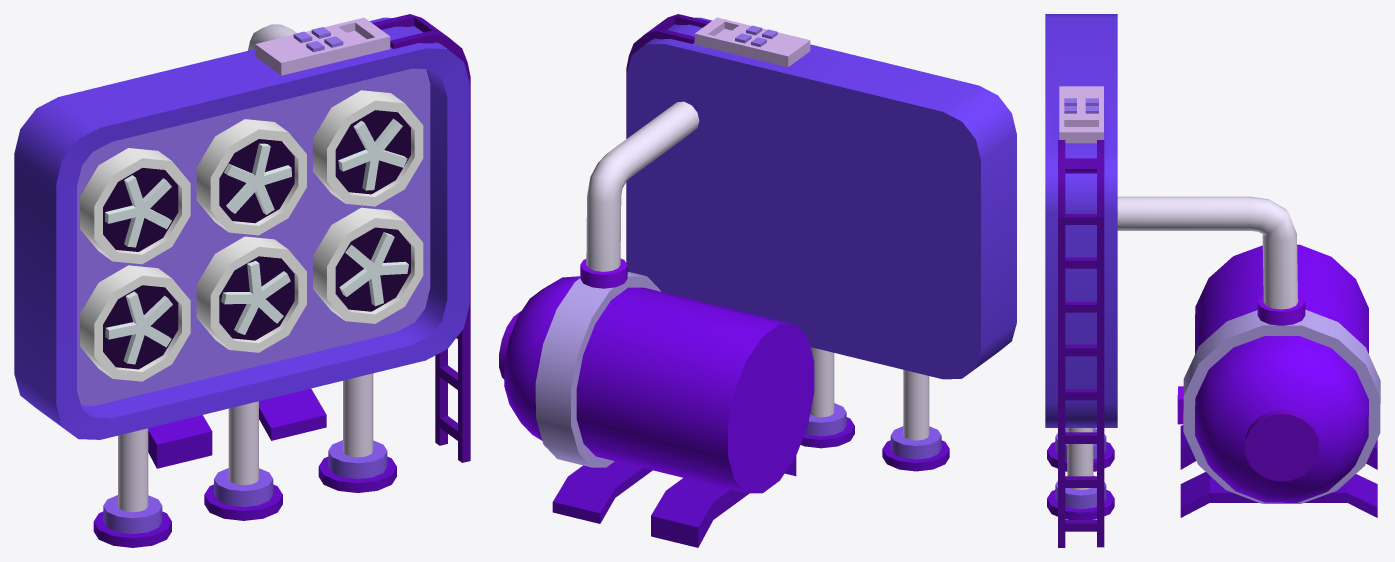
Rendered from 2026-1-9-CarbonCapture-v048.fbx.
3 views of the same model, side by side, from view 1: azimuth 30°, elevation 25°; view 2: azimuth 150°, elevation 25°; view 3: azimuth 270°, elevation 25° (orthographic). The views are drawn at different scales.
Parts seen in each view (by area): view 1: Cube.003, Cube.004, Cylinder.011, Cylinder.008, Cylinder.012, Cylinder.007, Cylinder.010, Cylinder.009, Cylinder.022, Cylinder.020, Cylinder.018, Cylinder.021 (+20 smaller); view 2: Cube.003, Cylinder, Cylinder.002, Cylinder.001, Cube.001, Cube, Cylinder.006, Cylinder.014, Cube.004, Cylinder.015, Cylinder.005, Cylinder.024 (+2 smaller); view 3: Cylinder, Cube.003, Cube.004, Cylinder.001, Cylinder.002, Cube, Cylinder.003, Cylinder.024, Cylinder.004, Cylinder.017, Cube.001, Cylinder.013.
Part boxes in pixels (x1,y1,x2,y2): Cube.003: [14, 17, 469, 439]; Cube.004: [372, 14, 470, 462]; Cylinder.011: [196, 236, 306, 352]; Cylinder.008: [196, 119, 306, 235]; Cylinder.012: [80, 265, 190, 381]; Cylinder.007: [80, 148, 190, 264]; Cylinder.010: [313, 207, 423, 323]; Cylinder.009: [313, 90, 423, 206]; Cylinder.022: [103, 285, 178, 369]; Cylinder.020: [335, 227, 410, 311]; Cylinder.018: [219, 139, 294, 223]; Cylinder.021: [219, 256, 294, 340]; Cube.003: [626, 17, 1016, 379]; Cylinder: [499, 276, 814, 493]; Cylinder.002: [535, 271, 661, 467]; Cylinder.001: [586, 101, 699, 271]; Cube.001: [651, 456, 796, 547]; Cube: [552, 461, 652, 523]; Cylinder.006: [903, 370, 929, 440]; Cylinder.014: [810, 347, 834, 417]; Cube.004: [626, 14, 710, 271]; Cylinder.015: [890, 426, 941, 459]; Cylinder.005: [882, 440, 949, 471]; Cylinder.024: [580, 258, 627, 288]; Cylinder: [1195, 244, 1368, 502]; Cube.003: [1045, 14, 1117, 427]; Cube.004: [1058, 140, 1104, 547]; Cylinder.001: [1117, 196, 1298, 309]; Cylinder.002: [1177, 309, 1380, 503]; Cube: [1180, 472, 1377, 517]; Cylinder.003: [1067, 428, 1093, 490]; Cylinder.024: [1257, 295, 1305, 325]; Cylinder.004: [1047, 490, 1114, 519]; Cylinder.017: [1055, 475, 1106, 509]; Cube.001: [1180, 425, 1377, 469]; Cylinder.013: [1047, 442, 1114, 471].
Bounding box in the file's own units: 349 × 335 × 264.
